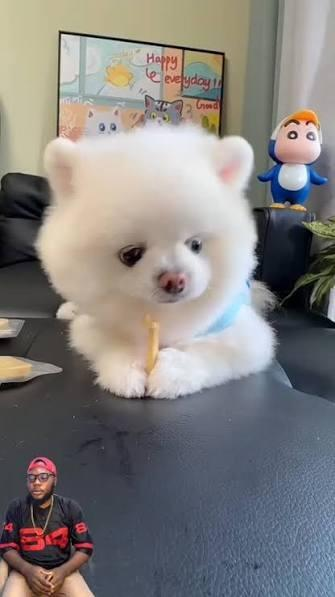adult_dog: (32, 123, 276, 399)
non-dog: (0, 457, 98, 597)
